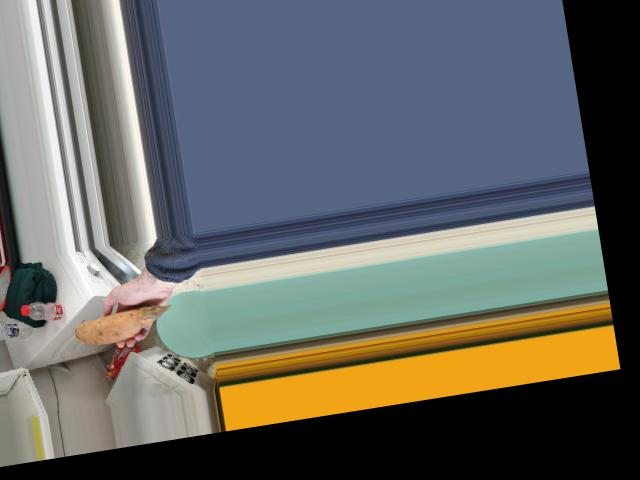sweet_potato: (77, 307, 185, 351)
